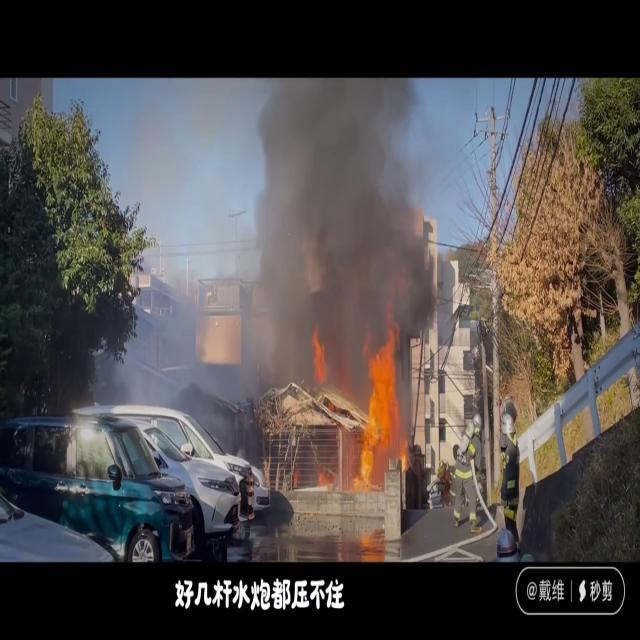Fire: (356, 325, 407, 488), (399, 438, 409, 475)
Smoke: (226, 78, 444, 364)
